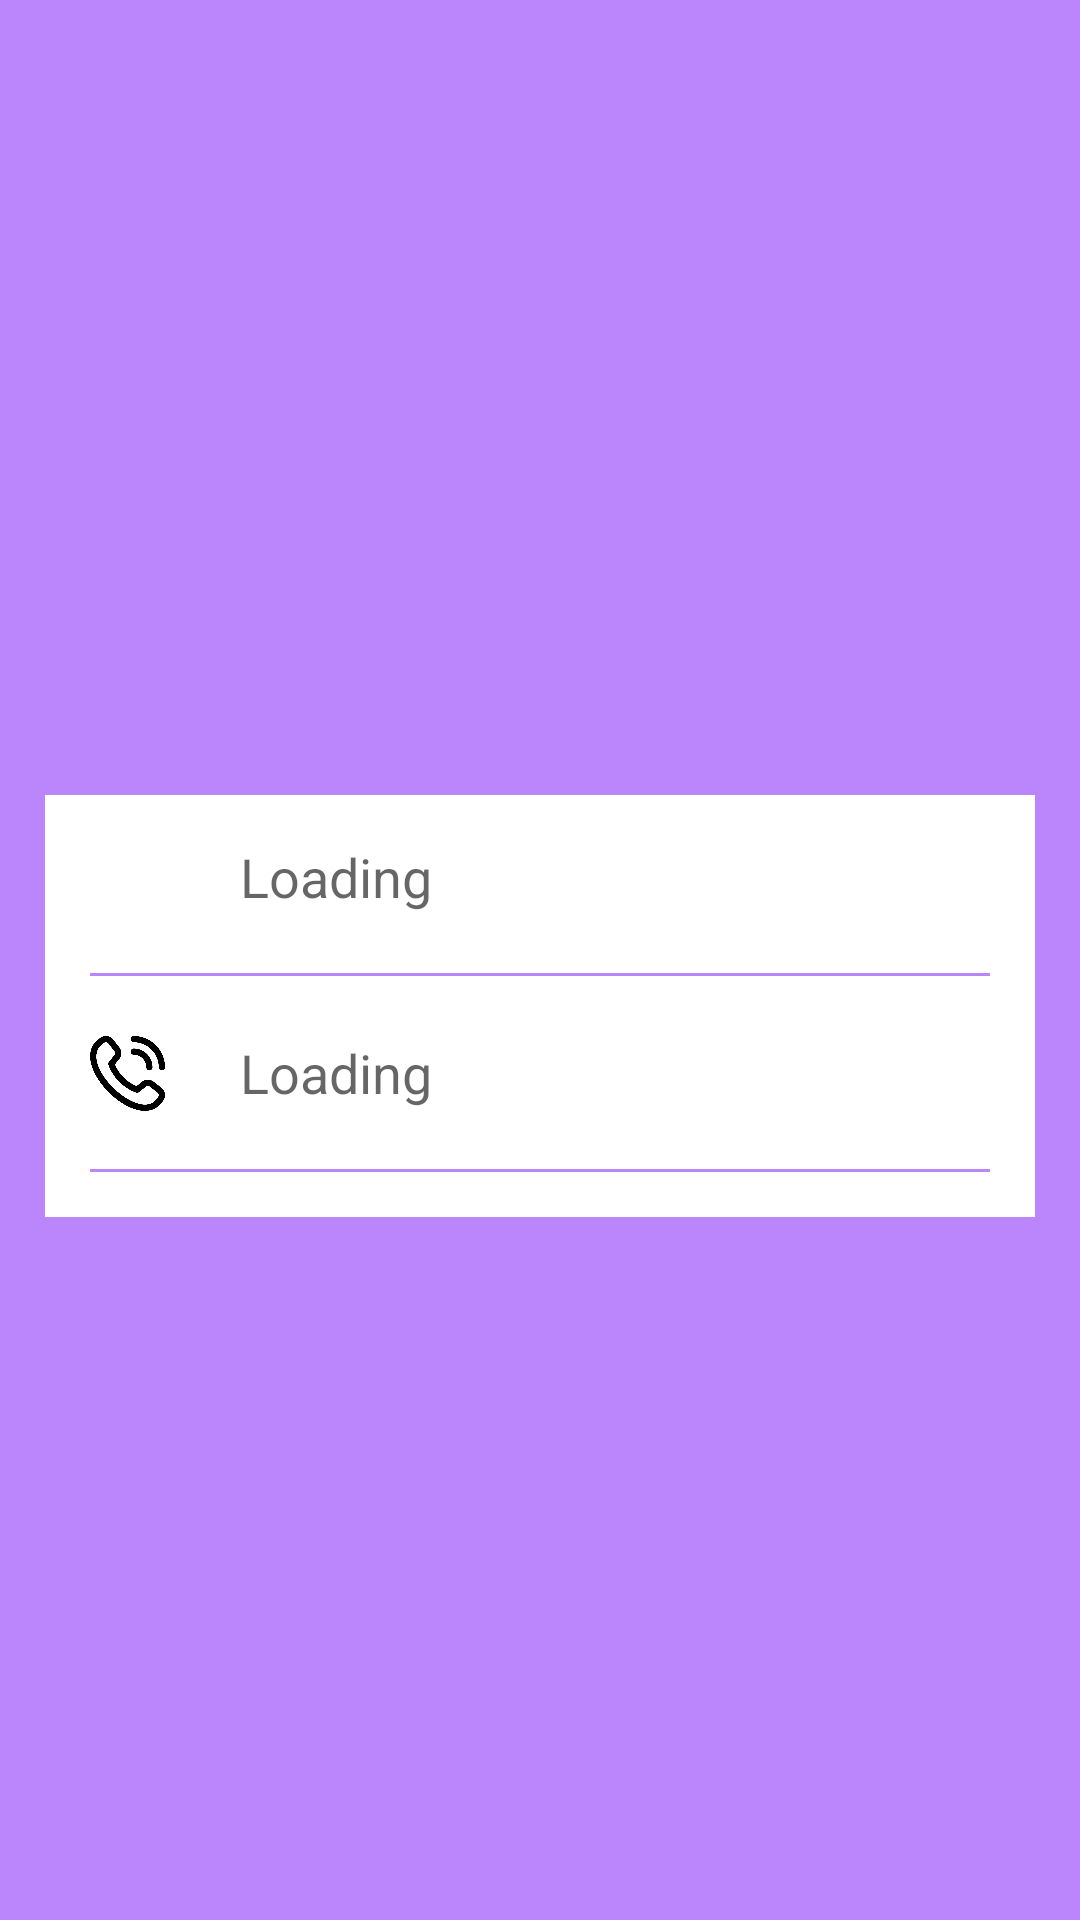

Named icons in this screenshot (1080w x 1920h) and their centers, point (x, y):
phone call: point (127, 1073)
